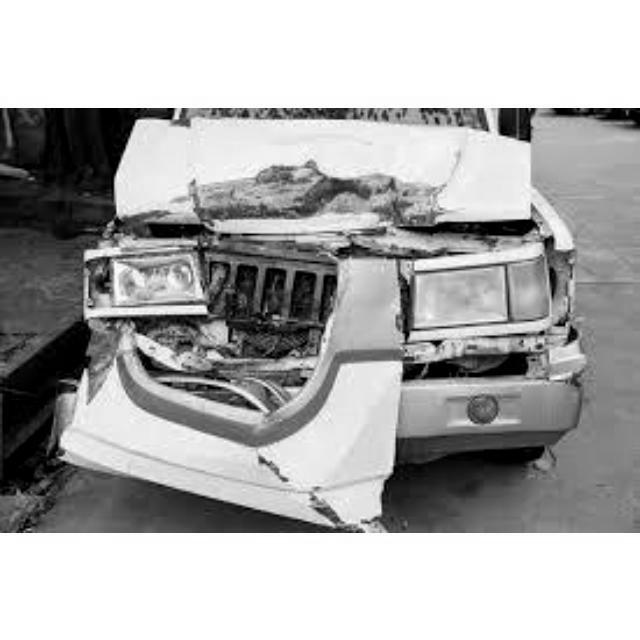Headlight-damage: (86, 235, 216, 337)
bonnet-dent: (131, 122, 496, 259)
front-bumper-dent: (138, 289, 368, 437)
